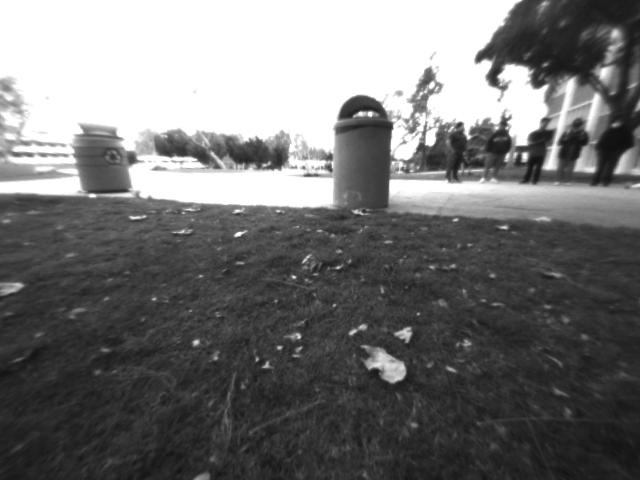trashcan: (322, 84, 409, 214)
